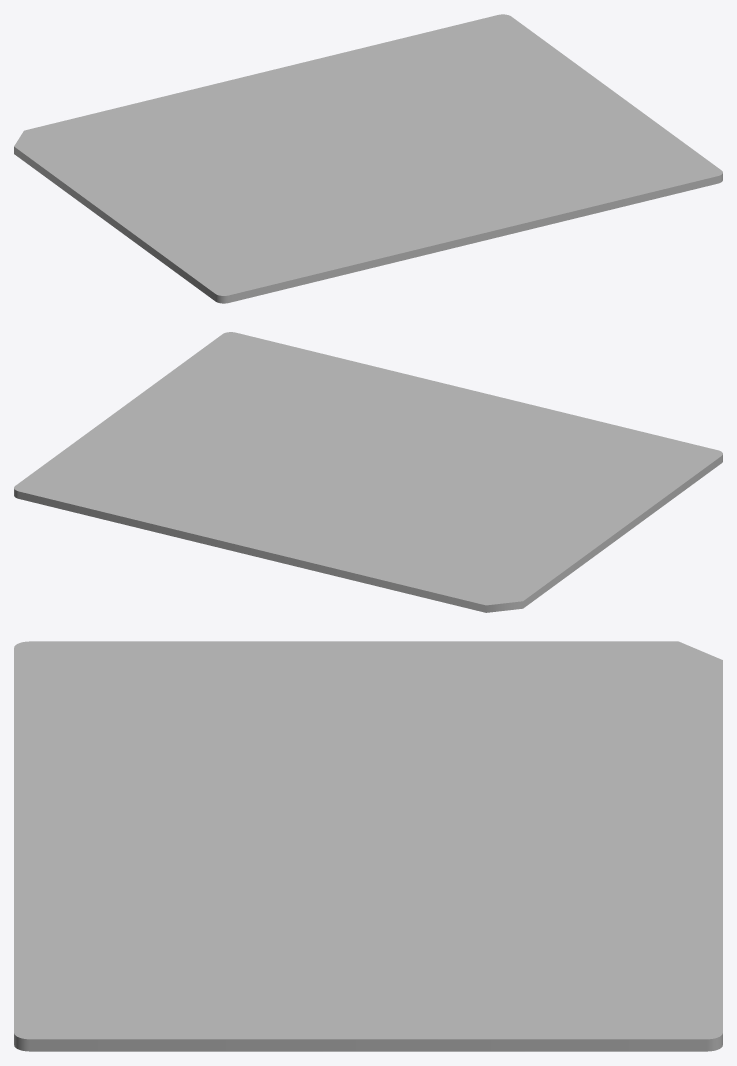
The model's file is 封板膜.glb.
The picture shows the model from 3 angles, top to bottom: view 1: azimuth 30°, elevation 25°; view 2: azimuth 150°, elevation 25°; view 3: azimuth 270°, elevation 25°; orthographic projection. The views are drawn at different scales.
Parts seen in each view (by area): view 1: 封板模; view 2: 封板模; view 3: 封板模.
Boxes of the visible parts, <box> form: 封板模: <box>14,14,722,303</box>; 封板模: <box>14,332,722,612</box>; 封板模: <box>14,641,722,1051</box>.
Size of the model in its own units: 0.0207 by 0.000297 by 0.0156.
1 material, 1 textured.
